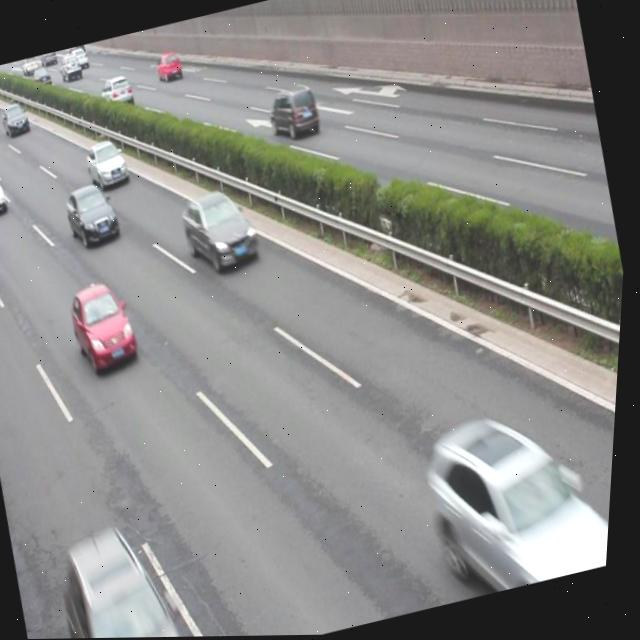car: (421, 394, 621, 604), (58, 519, 206, 639), (177, 184, 267, 279), (67, 278, 149, 377), (62, 180, 125, 251), (264, 79, 323, 145), (83, 136, 133, 191), (98, 71, 137, 111), (0, 100, 32, 136), (155, 48, 185, 82), (0, 164, 12, 218)
